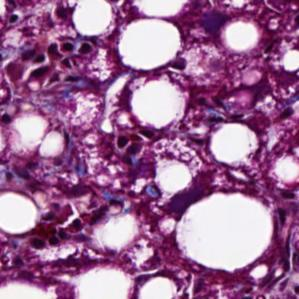inflammation: (16, 38, 100, 83), (109, 131, 150, 164)
